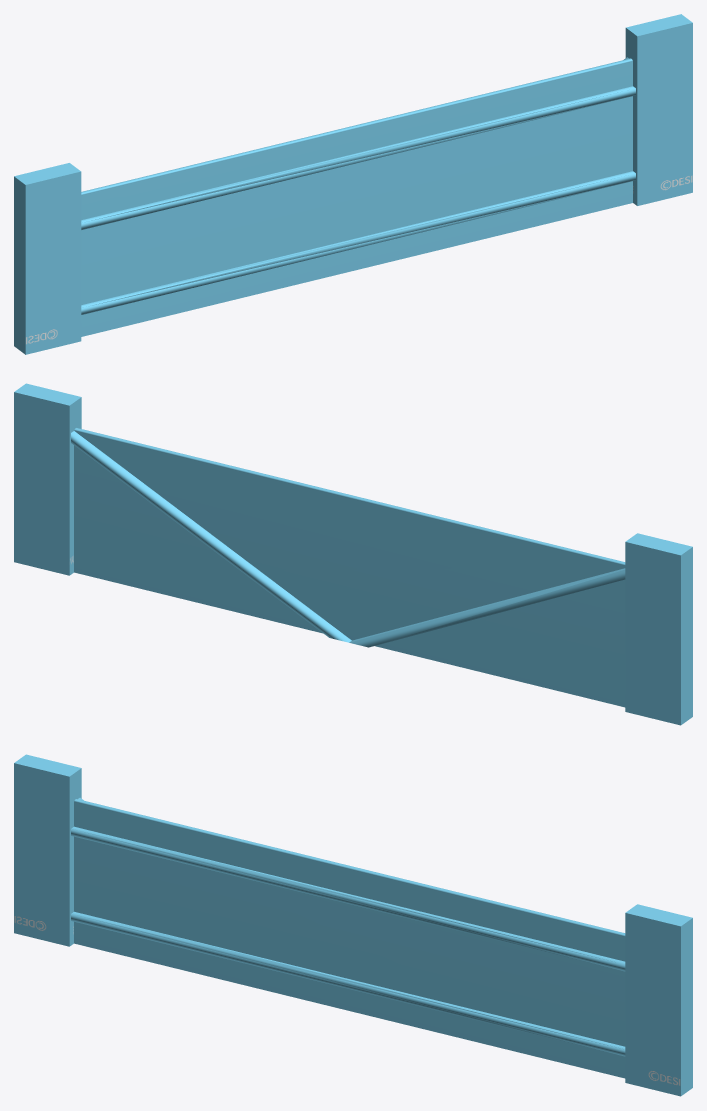
File: Wall2222.obj
The picture shows the model from 3 angles, top to bottom: view 1: azimuth 30°, elevation 25°; view 2: azimuth 150°, elevation 25°; view 3: azimuth 330°, elevation 25°; orthographic projection.
Visible parts, largest first — view 1: MRG; view 2: MRG; view 3: MRG.
Boxes of the visible parts, left/top/right/bottom form: MRG: left=14, top=14, right=692, bottom=354; MRG: left=14, top=383, right=692, bottom=725; MRG: left=14, top=754, right=692, bottom=1096.
Size of the model in its own units: 7.74 by 1.88 by 0.2514.
1 material, 1 textured.
